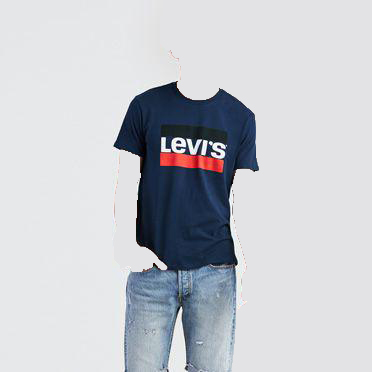teeshirt: (112, 78, 263, 271)
